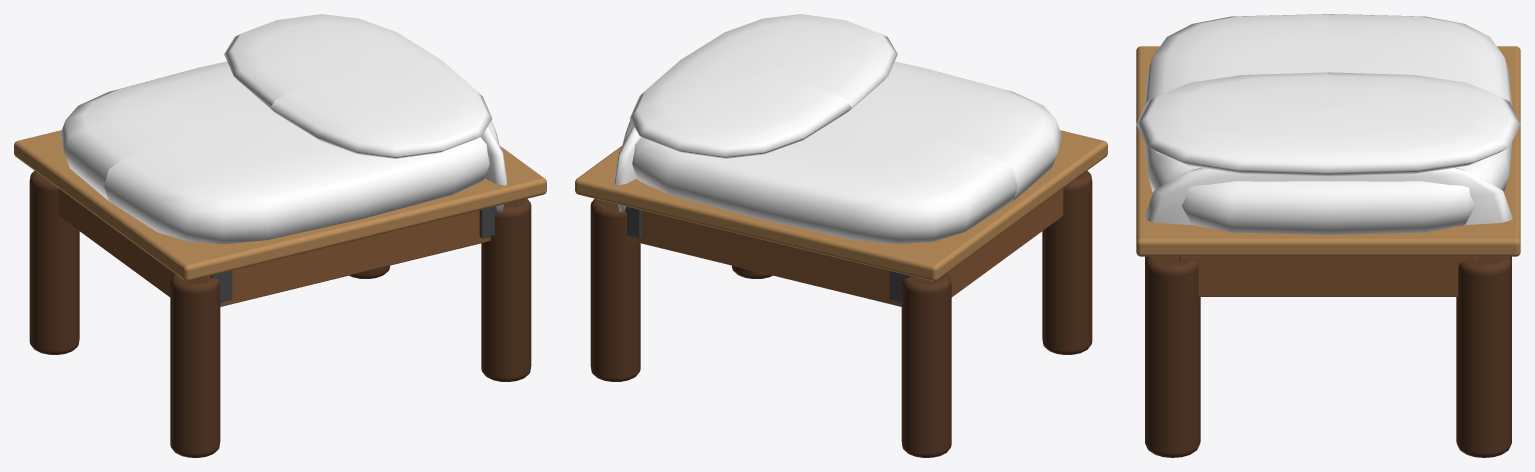
File: cabin-hide-ottoman.glb
3 renders of one model, left to right at view 1: azimuth 30°, elevation 25°; view 2: azimuth 150°, elevation 25°; view 3: azimuth 270°, elevation 25°, orthographic. The views are drawn at different scales.
Parts seen in each view (by area): view 1: pad, hide.top, top.board, leg.front.left, rail.front, leg.front.right, leg.back.left, rail.left, hide.side; view 2: pad, hide.top, top.board, leg.back.left, rail.back, leg.back.right, leg.front.left, rail.left, hide.side; view 3: pad, hide.top, top.board, leg.back.right, leg.front.right, rail.right, hide.side.
Boxes of the visible parts, x1,y1,x2,y2 form: pad: (60, 61, 499, 244); hide.top: (224, 14, 492, 158); top.board: (14, 130, 546, 281); leg.front.left: (170, 273, 220, 457); rail.front: (204, 204, 504, 306); leg.front.right: (481, 198, 531, 381); leg.back.left: (29, 171, 79, 354); rail.left: (58, 188, 174, 297); hide.side: (480, 125, 507, 211); pad: (622, 61, 1061, 244); hide.top: (629, 14, 897, 158); top.board: (575, 130, 1107, 281); leg.back.left: (901, 273, 951, 457); rail.back: (617, 204, 917, 306); leg.back.right: (590, 198, 640, 381); leg.front.left: (1042, 171, 1092, 354); rail.left: (947, 188, 1063, 297); hide.side: (614, 125, 641, 211); pad: (1144, 14, 1512, 234); hide.top: (1136, 72, 1520, 176); top.board: (1136, 46, 1520, 256); leg.back.right: (1456, 256, 1511, 457); leg.front.right: (1145, 256, 1200, 457); rail.right: (1179, 256, 1477, 296); hide.side: (1144, 167, 1512, 224).
Size of the model in its own units: 0.7 by 0.495 by 0.58.
